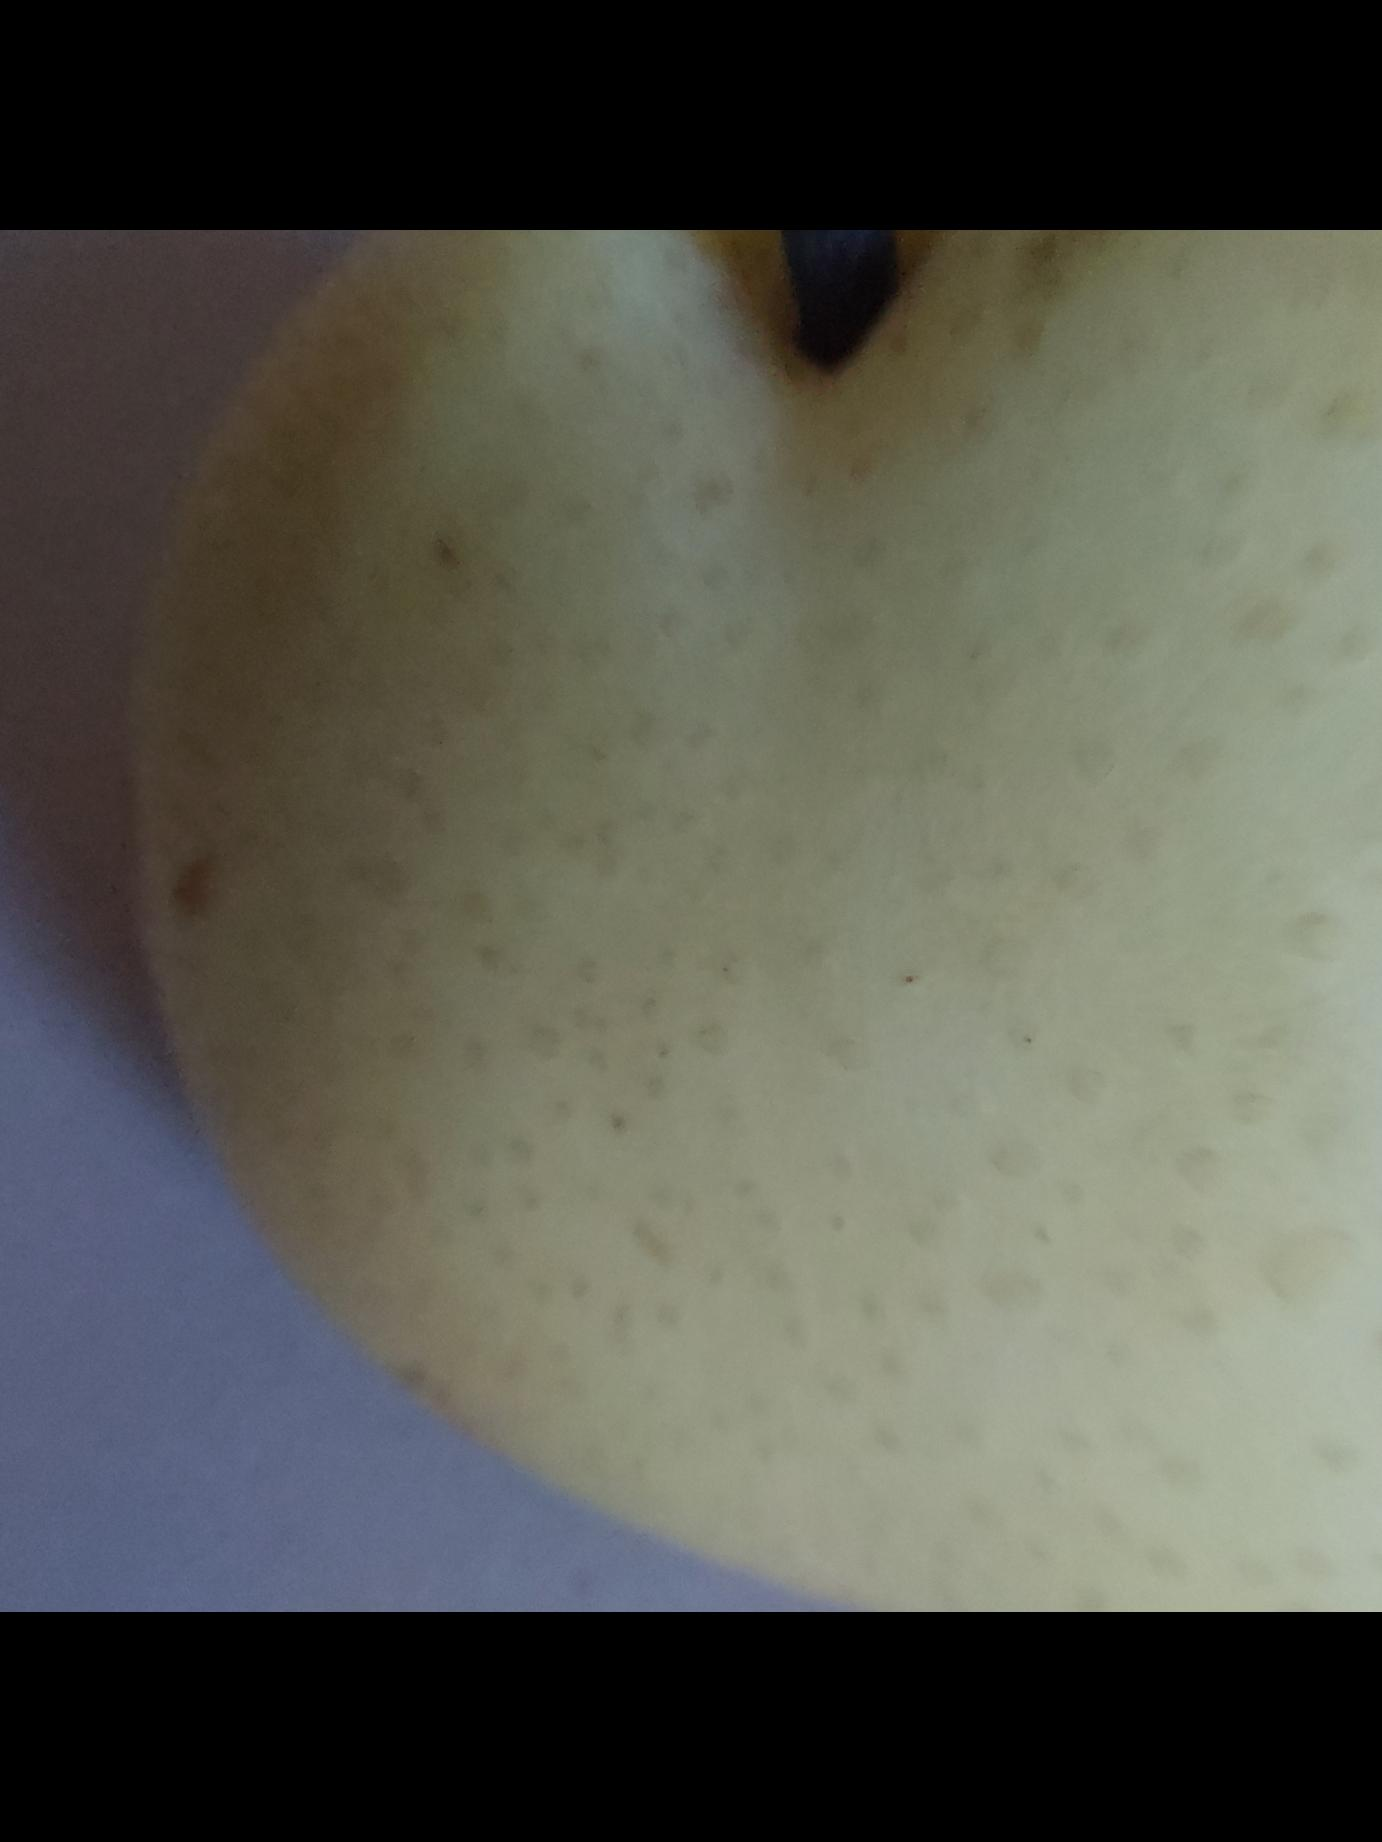Good Pear: (70, 229, 1382, 1613)
